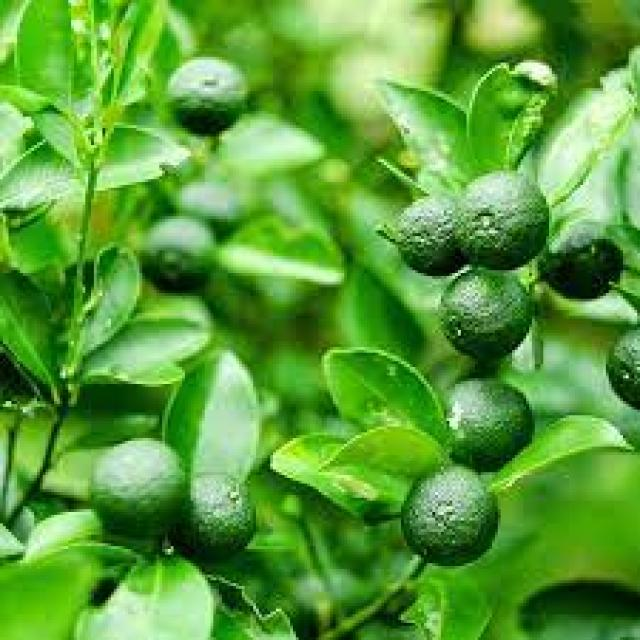heathy: (396, 458, 500, 567), (434, 373, 539, 473), (433, 263, 537, 361), (459, 171, 551, 265), (161, 47, 256, 138), (178, 466, 259, 564), (604, 312, 640, 414)
